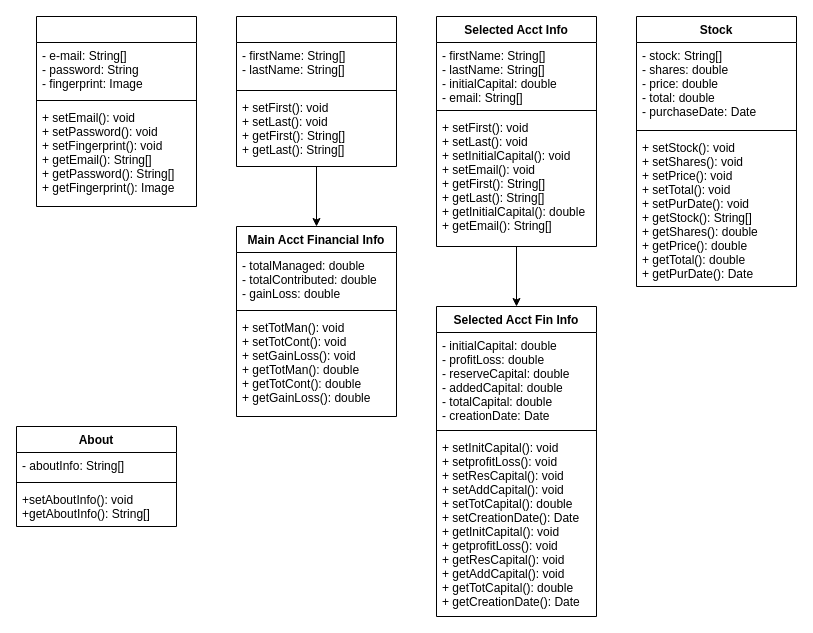
The diagram is 813 pixels wide and 633 high, and some of its shapes have lost their labels. The shapes that lost their labels are listed below. From the top down, each one's box as (x1, y1, x2, y2) in pixels, then its label:
(36, 16, 196, 206): Aunthentication
(236, 16, 396, 166): Main Acct Basic Info
